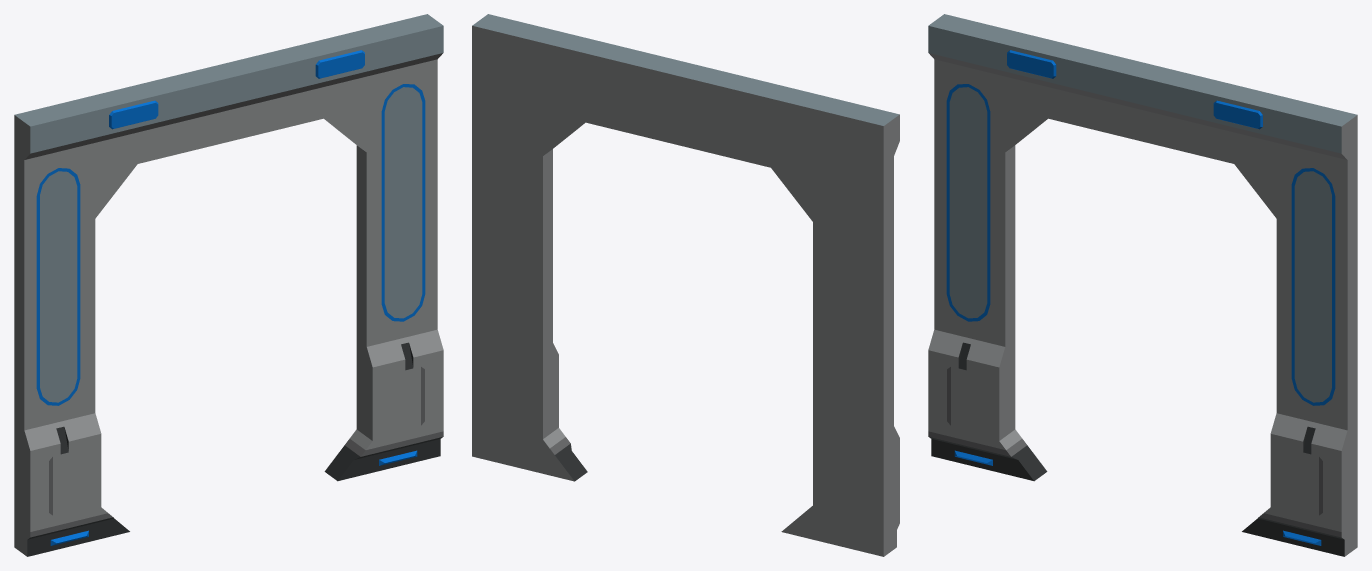
Rendered from Wall_type_B_054.fbx.
3 renders of one model, left to right at view 1: azimuth 30°, elevation 25°; view 2: azimuth 150°, elevation 25°; view 3: azimuth 330°, elevation 25°, orthographic.
Parts seen in each view (by area): view 1: Wall_type_B_054; view 2: Wall_type_B_054; view 3: Wall_type_B_054.
Part boxes in pixels (x1,y1,x2,y2): Wall_type_B_054: [14, 14, 443, 556]; Wall_type_B_054: [472, 14, 899, 556]; Wall_type_B_054: [928, 14, 1357, 556].
Bounding box in the file's own units: 400 × 28.98 × 400.
